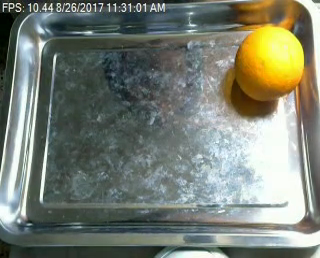Orange: (233, 25, 304, 101)
